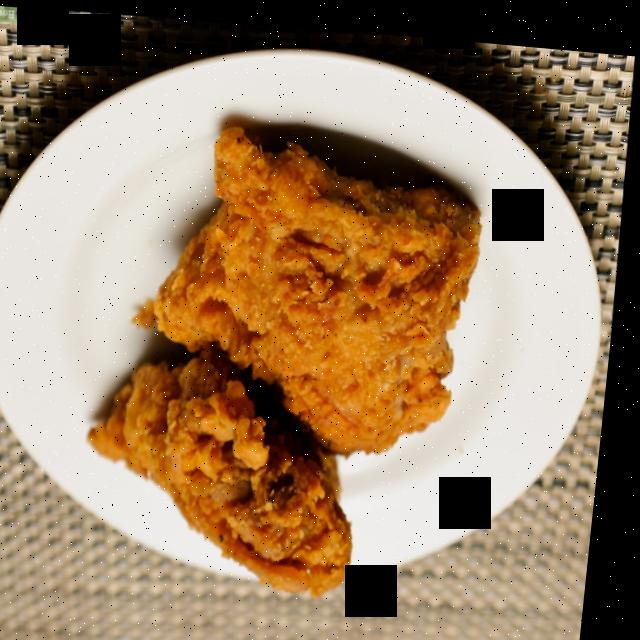Frango: (146, 110, 499, 460)
